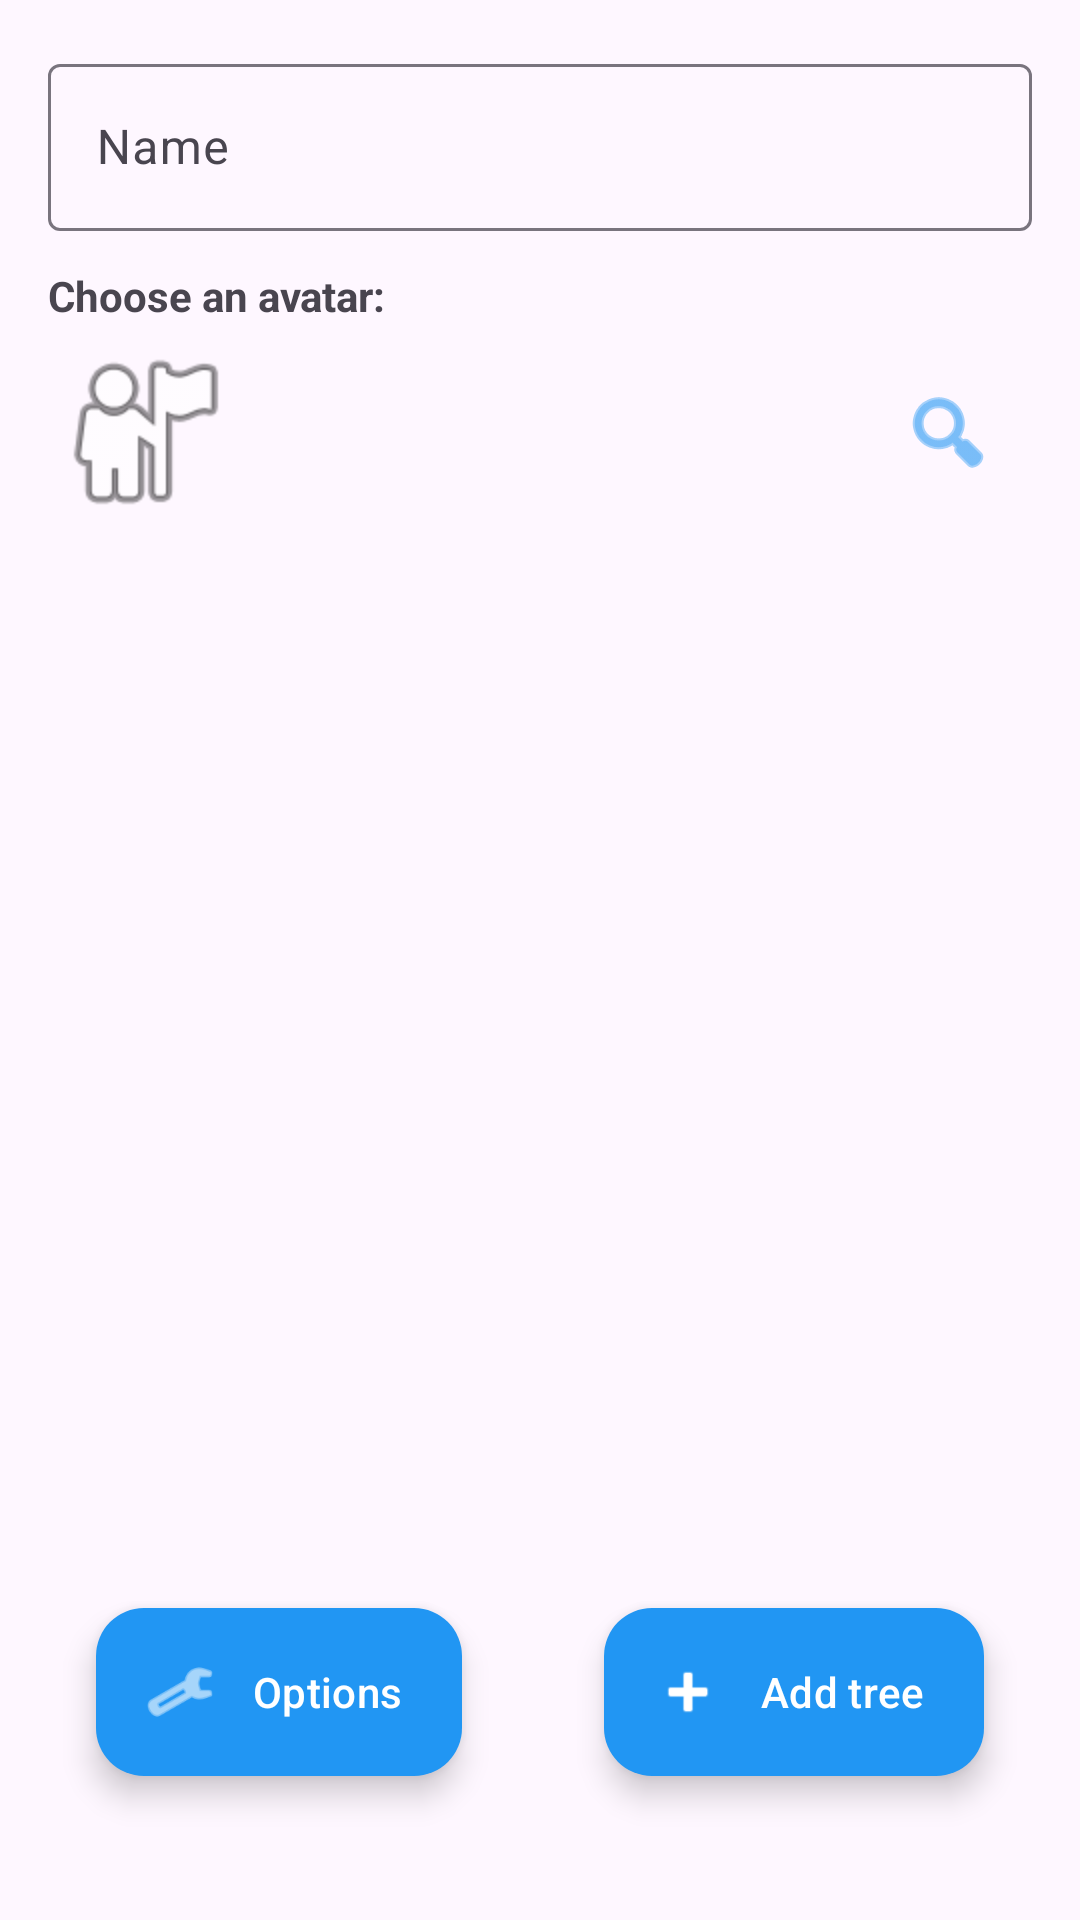

Screen size 1080×1920. Icon name, then its box in pixels as (x1, y1, x2, y2):
Avatar Preview: (74, 360, 218, 504)
